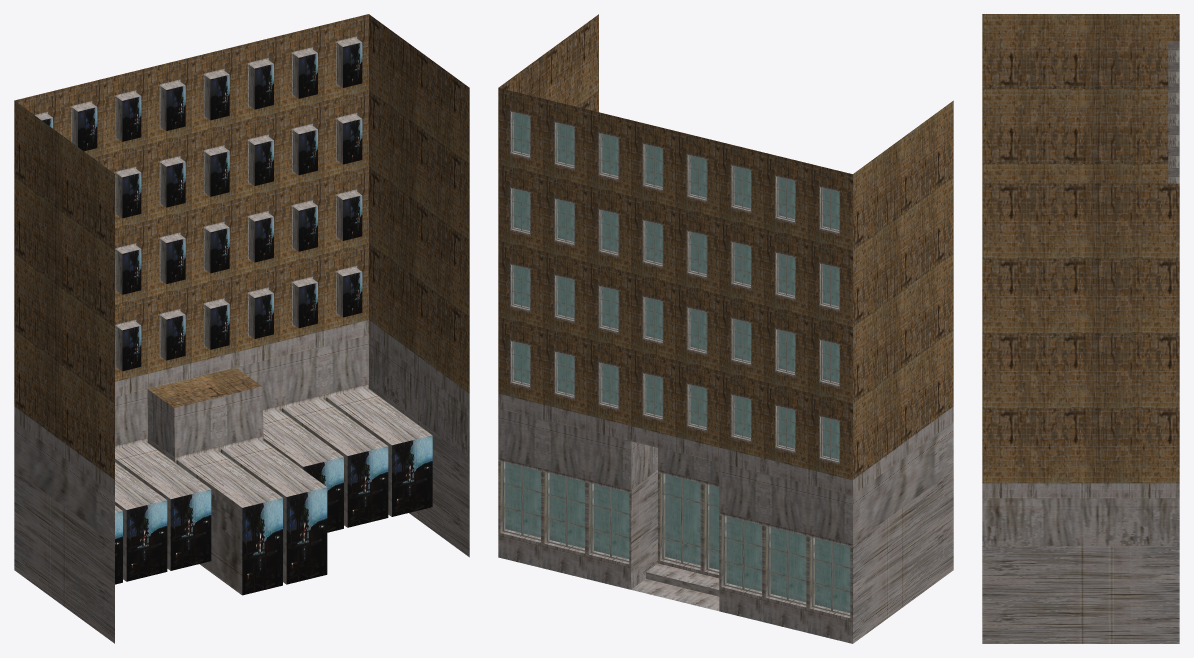
File: Building_02.fbx
3 renders of one model, left to right at view 1: azimuth 30°, elevation 25°; view 2: azimuth 150°, elevation 25°; view 3: azimuth 270°, elevation 25°, orthographic. The views are drawn at different scales.
Parts seen in each view (by area): view 1: Building_02; view 2: Building_02; view 3: Building_02.
Boxes of the visible parts, bbox=[...] form: Building_02: bbox=[14, 14, 469, 643]; Building_02: bbox=[498, 14, 953, 643]; Building_02: bbox=[982, 14, 1179, 643].
Size of the model in its own units: 1438 by 1821 by 708.
